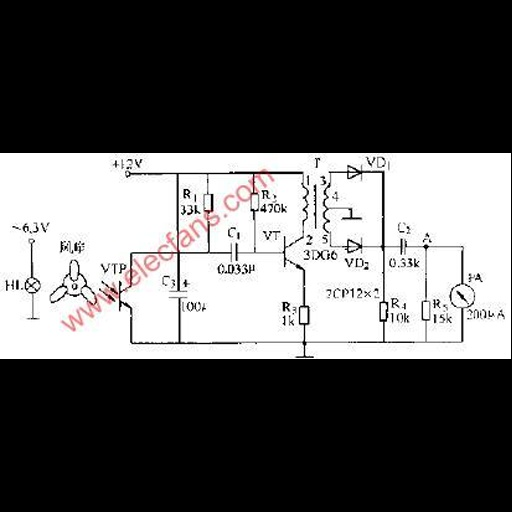capacitor: (226, 239, 245, 262), (395, 235, 412, 257)
firstpolarcapacitor: (168, 278, 191, 300)
firstresistance: (201, 191, 219, 214), (298, 301, 313, 327), (376, 299, 390, 324), (420, 297, 432, 323), (249, 190, 260, 214)
light: (23, 274, 43, 295)
npn: (278, 230, 307, 278)
seconddiode: (340, 234, 366, 257)
transformer: (298, 182, 332, 234)
